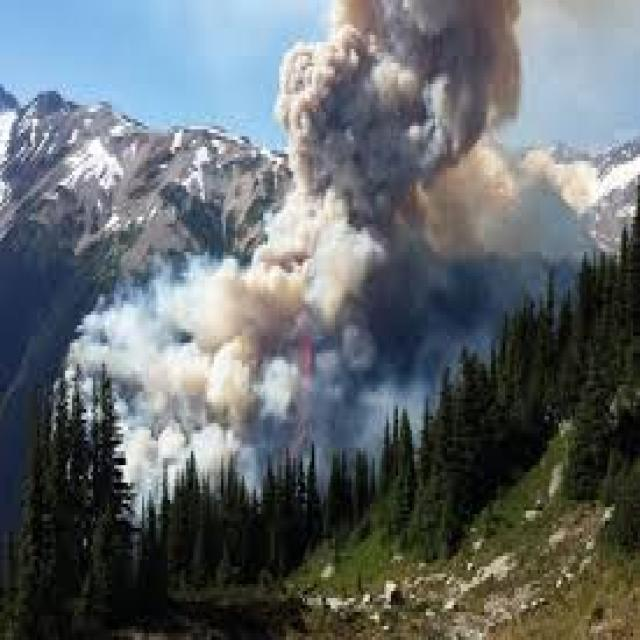Smoke: (80, 226, 274, 539), (287, 0, 523, 204), (274, 206, 588, 343), (275, 344, 462, 474)
